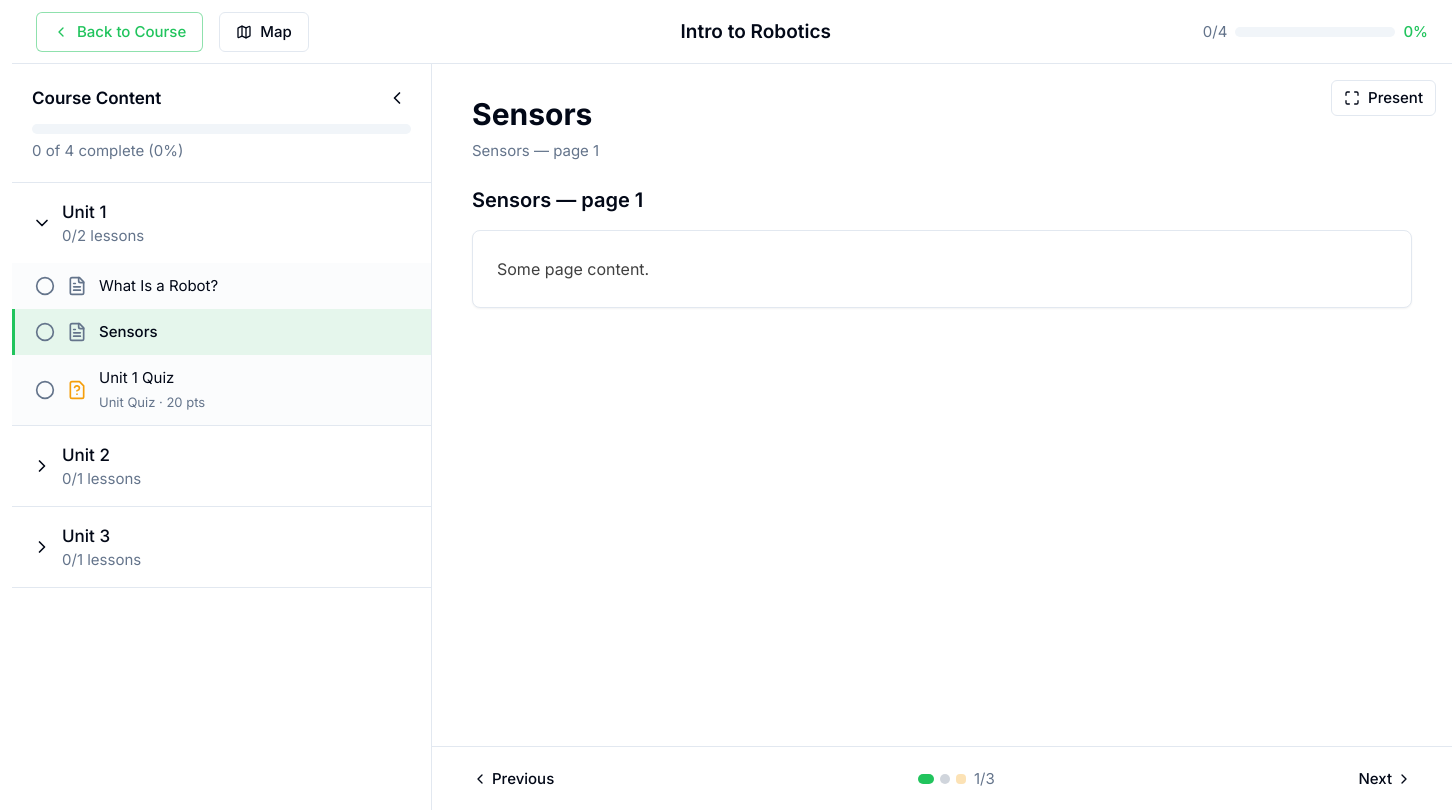
CoursePlayerPage — lesson transitions (phase 70) › resumes rather than restarts when stepping backwards
Expected: the heading "Sensors" is shown, [472,96,592,132]
Expected: the text with test id "page-indicator" reads "1/3", [974,768,995,790]
Click the button "Previous". click: (513, 778)
box: [456,758,570,798]
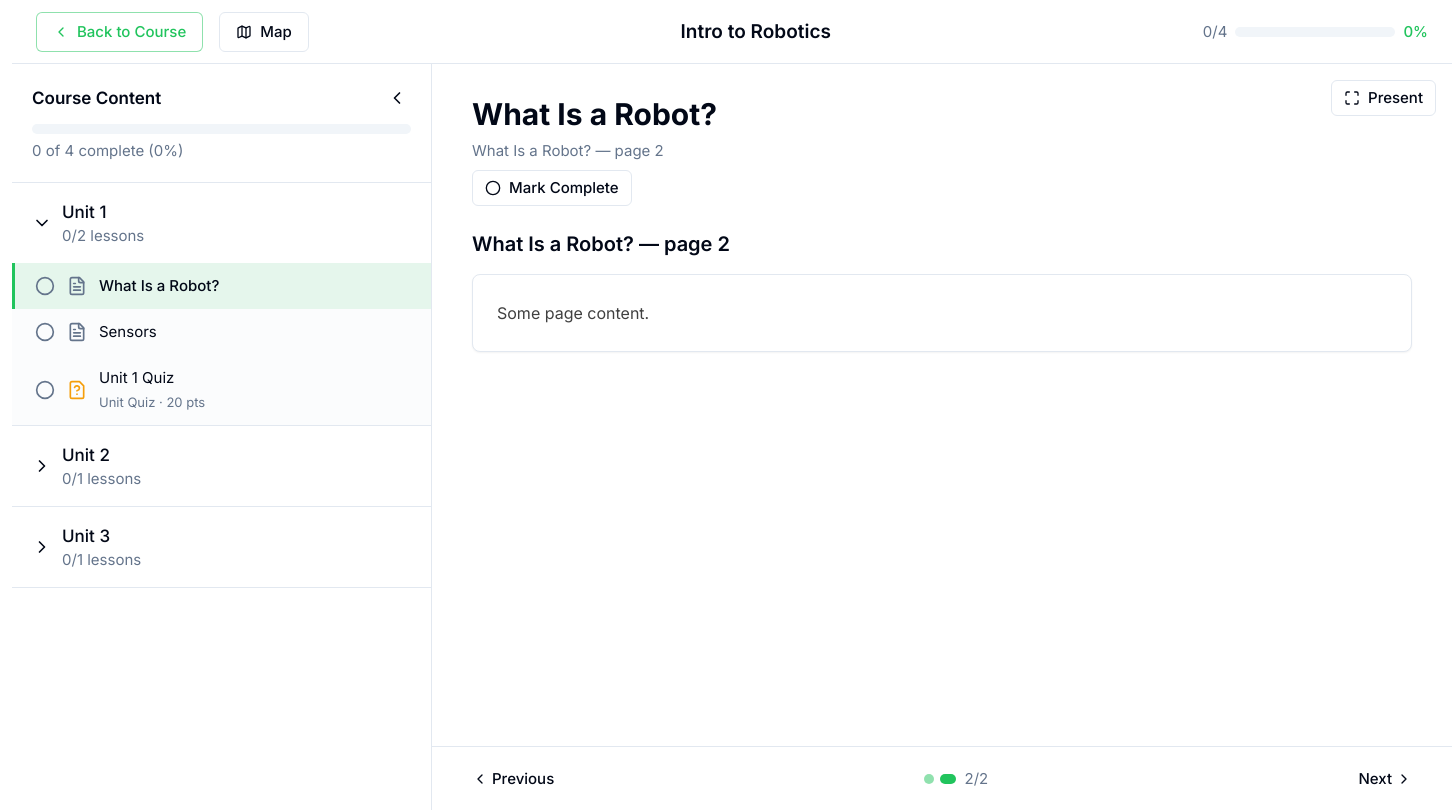
Result: the heading "What Is a Robot?" is shown at [472,96,717,132]
Result: the text with test id "page-indicator" reads "2/2" at [964,768,988,790]
